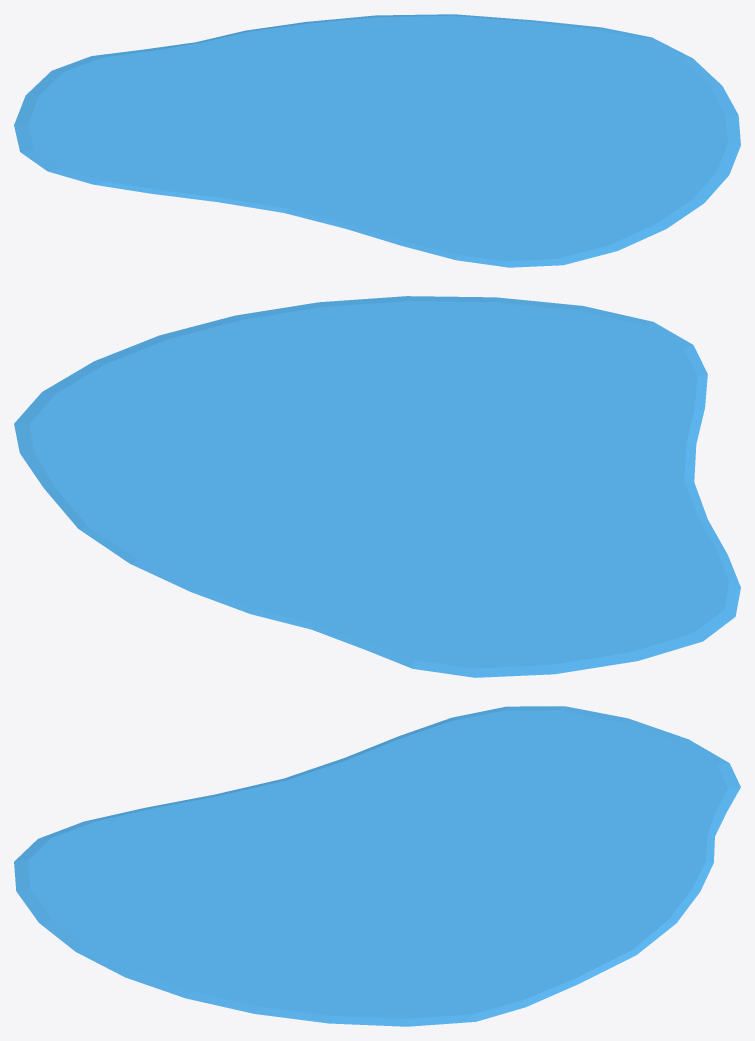
File: Puddle.fbx
3 views of the same model, one above another, from view 1: azimuth 30°, elevation 25°; view 2: azimuth 150°, elevation 25°; view 3: azimuth 270°, elevation 25° (orthographic). The views are drawn at different scales.
Visible parts, largest first — view 1: Circle.002; view 2: Circle.002; view 3: Circle.002.
Part boxes in pixels (x1,y1,x2,y2): Circle.002: [14, 14, 740, 267]; Circle.002: [14, 296, 740, 677]; Circle.002: [14, 706, 740, 1026].
Size of what is drawn, in the model's own units: 64.52 by 0.1564 by 61.83.
